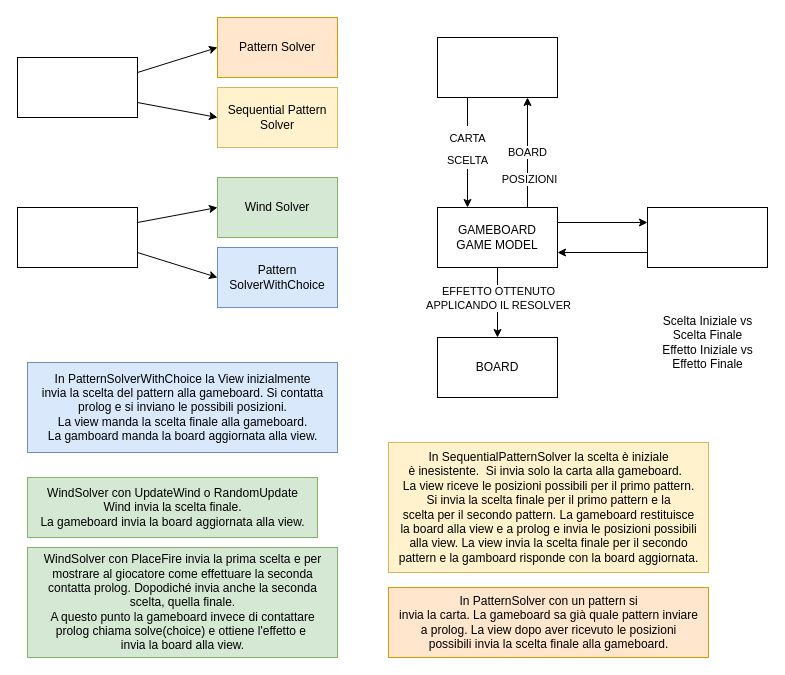
The diagram is 785 pixels wide and 675 high, and some of its shapes have lost their labels. The box of each missing label's shape, as (x1, y1, x2, y2) in pixels:
LINEAR RESOLVER: (16, 56, 138, 118)
PROLOG: (646, 206, 768, 268)
RESOLVER WITH CHOICE: (16, 206, 138, 268)
VIEW: (436, 36, 558, 98)
